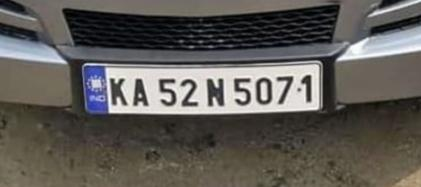0: (253, 74, 273, 107)
1: (298, 72, 317, 105)
2: (180, 75, 199, 108)
5: (157, 76, 179, 107), (232, 75, 253, 107)
7: (275, 74, 295, 105)
A: (130, 75, 152, 109)
K: (107, 75, 128, 107)
N: (205, 76, 227, 108)
